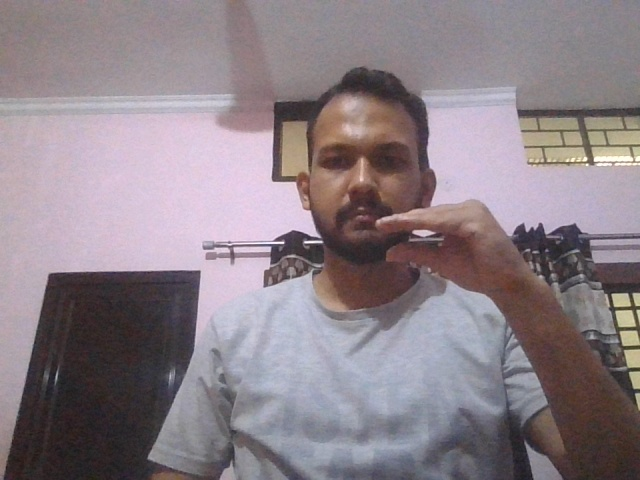no: (374, 198, 531, 296)
